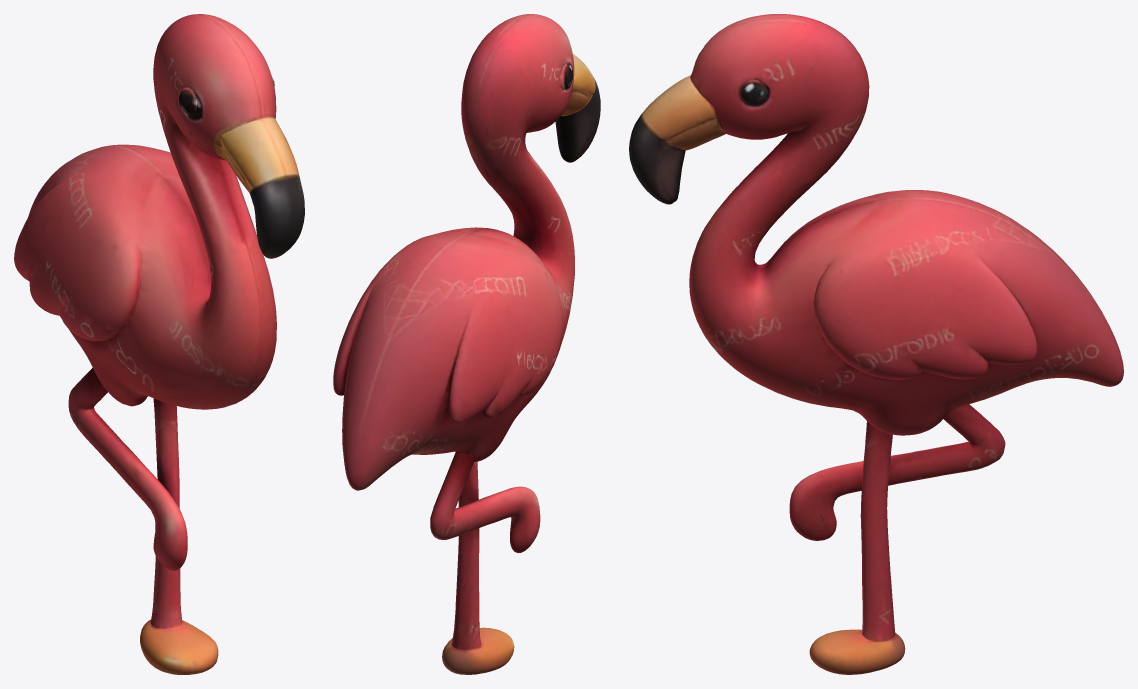
The model's file is flamingo_pbr.glb.
3 renders of one model, left to right at view 1: azimuth 30°, elevation 25°; view 2: azimuth 150°, elevation 25°; view 3: azimuth 270°, elevation 25°, orthographic. The views are drawn at different scales.
Parts seen in each view (by area): view 1: model; view 2: model; view 3: model.
Boxes of the visible parts, left/top/right/bottom form: model: left=14, top=14, right=304, bottom=674; model: left=333, top=14, right=600, bottom=674; model: left=629, top=14, right=1123, bottom=674.
Bounding box in the file's own units: 0.4979 × 1.84 × 1.27.
1 material, 1 textured.
